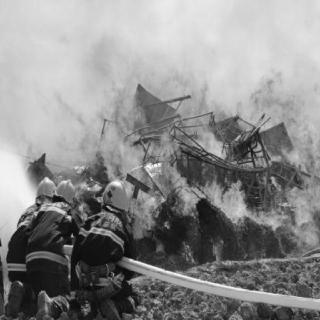Fire: (11, 134, 39, 170)
